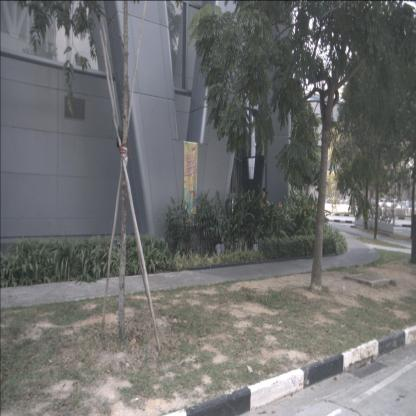vehicle-car: (396, 201, 415, 217), (386, 198, 402, 213), (378, 198, 391, 210)
